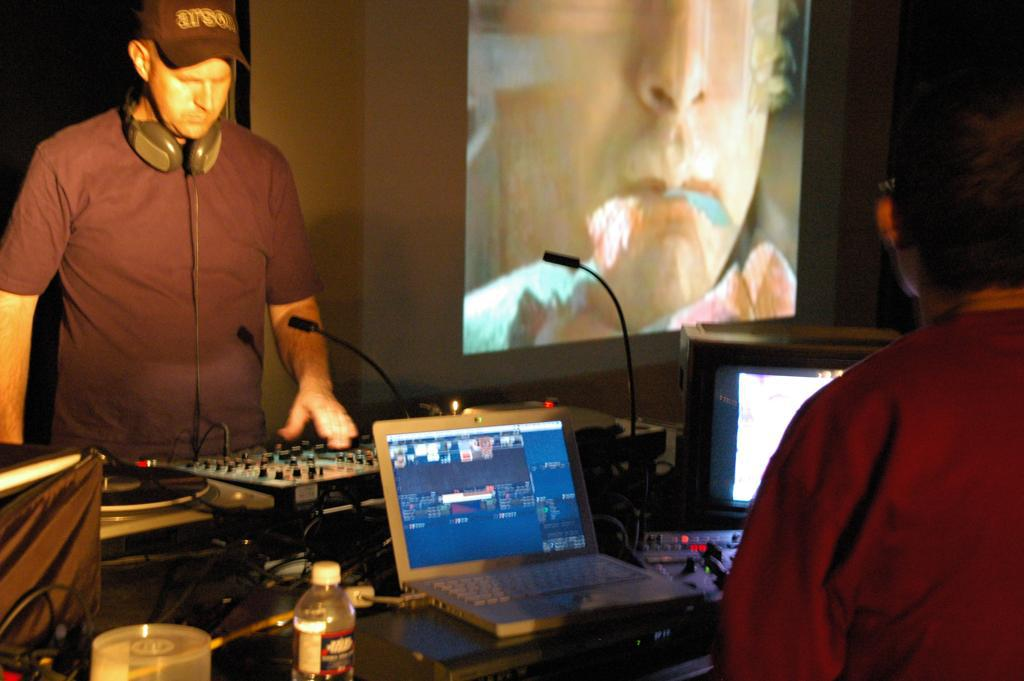face: (155, 31, 233, 131)
